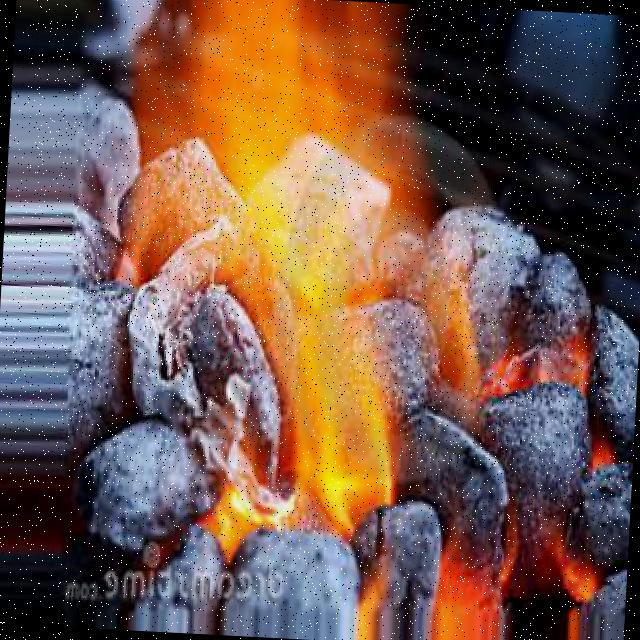Fire: (133, 6, 424, 533)
